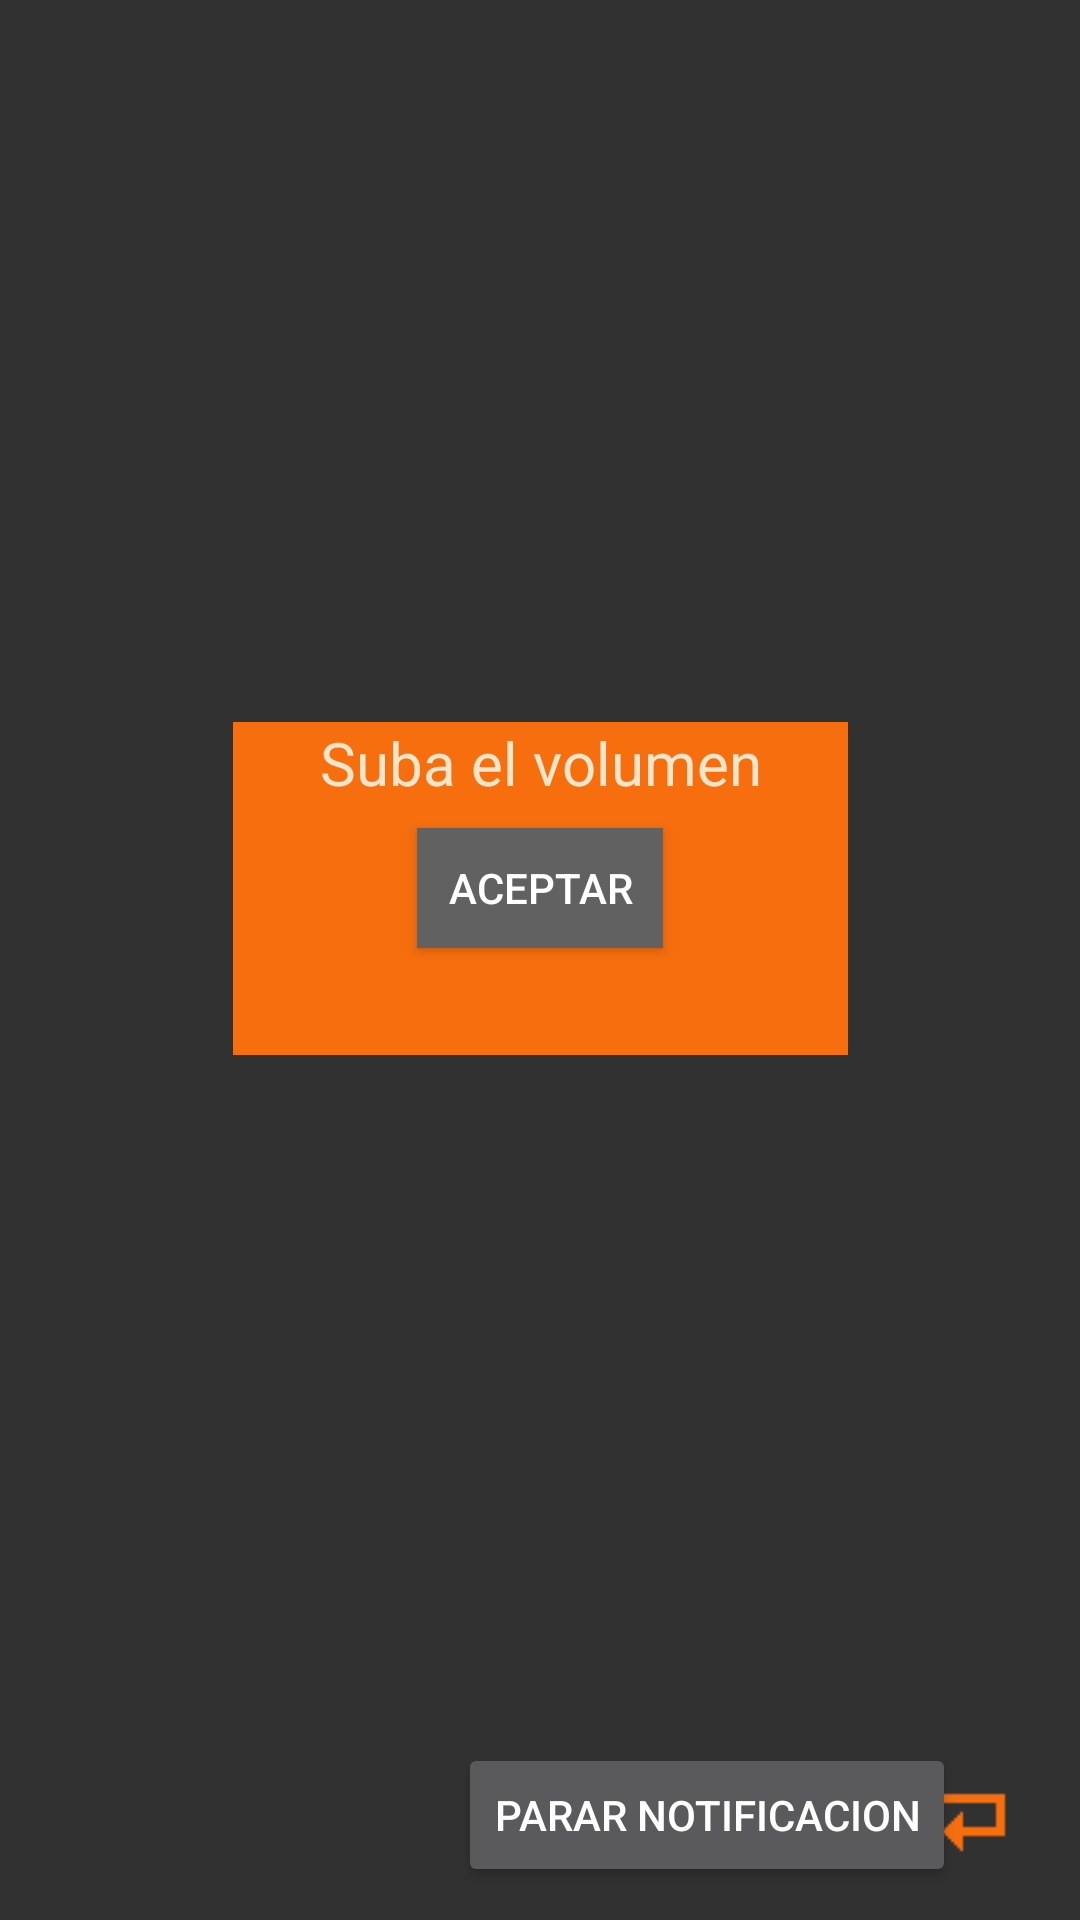

Point at icon controls on the screen. Image size 1080px×1920px, points as [x,y].
atras: [966,1821]
